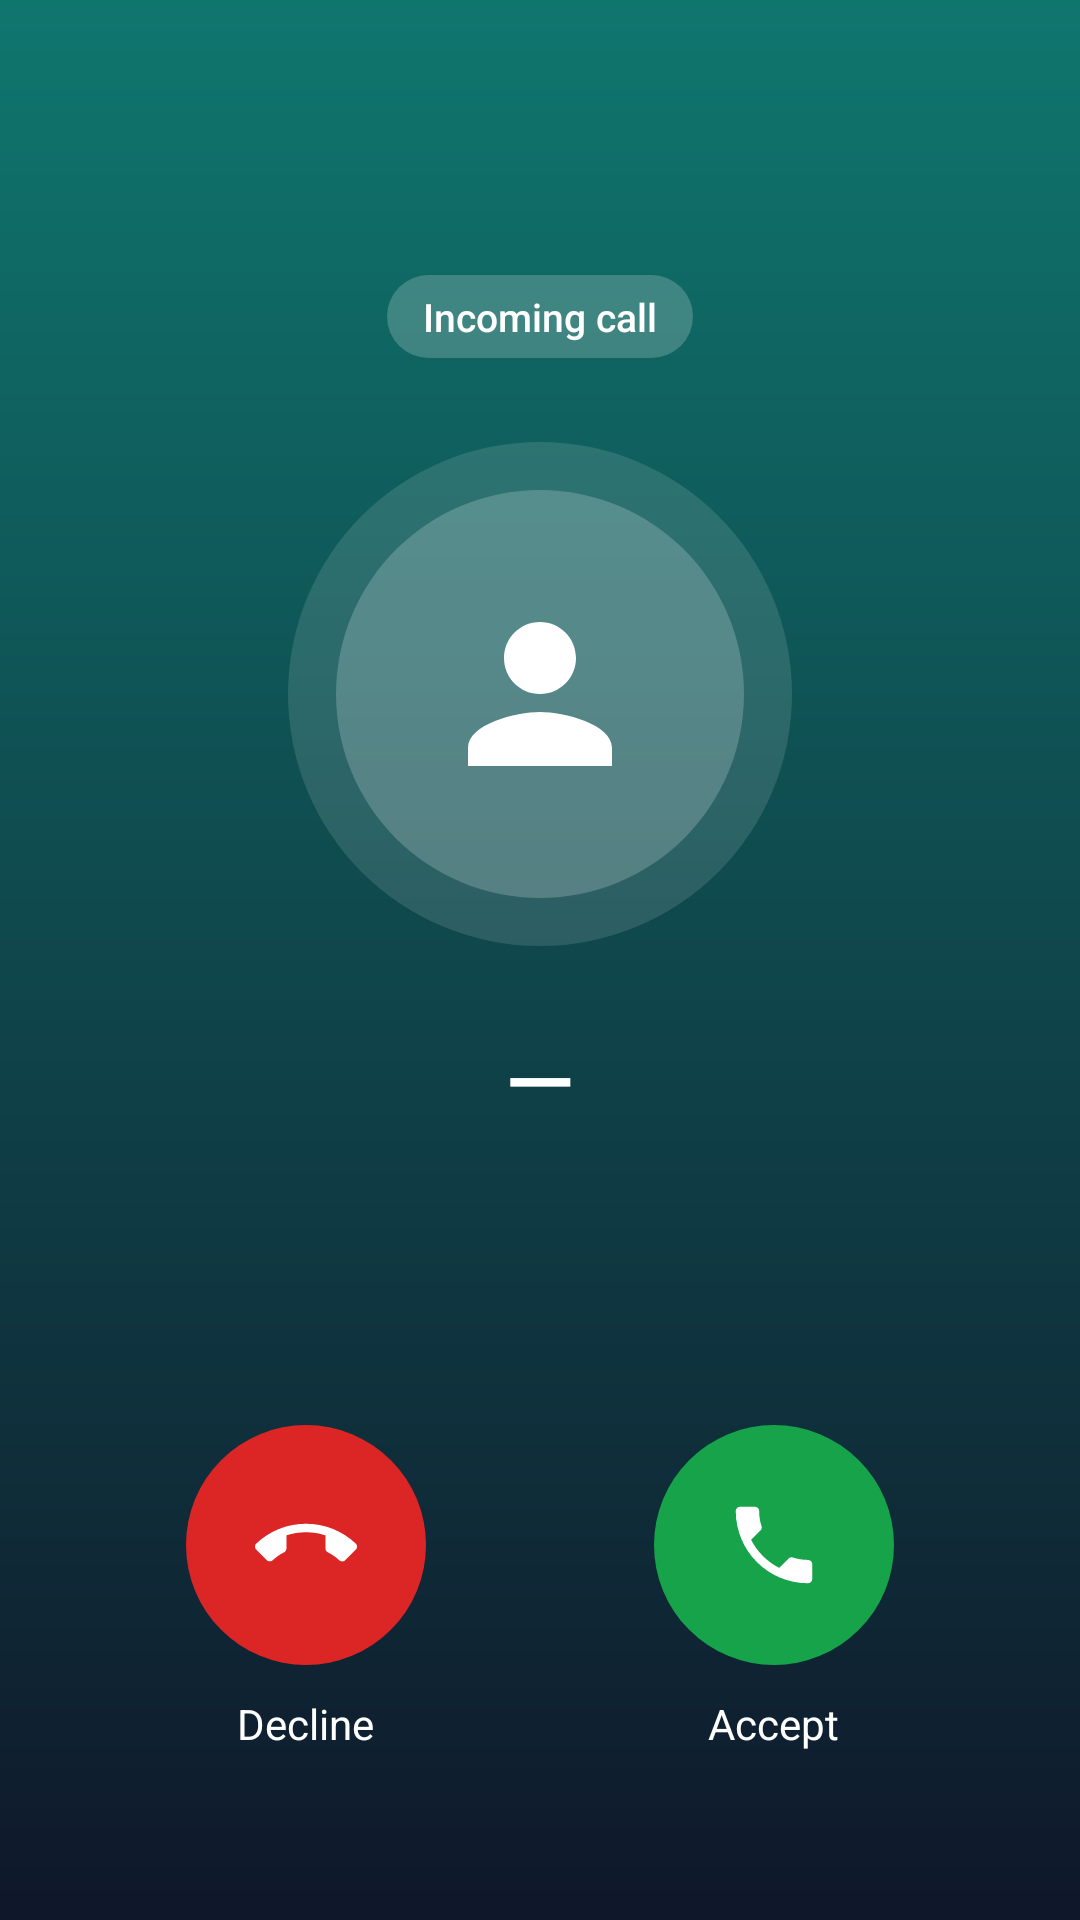

Point at icon controls on the screen. Image size 1080×1920, points as point (x, y).
person: point (540, 694)
